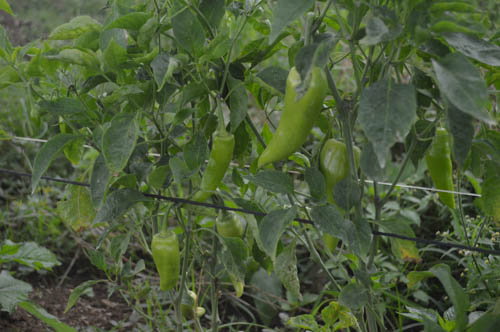ChiliPepper: (259, 70, 329, 174), (415, 127, 461, 211), (319, 142, 353, 252), (189, 135, 234, 203), (146, 235, 182, 294)
